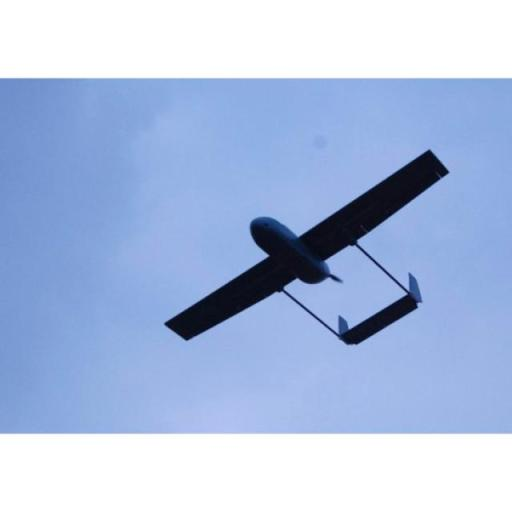uav: (156, 142, 452, 358)
